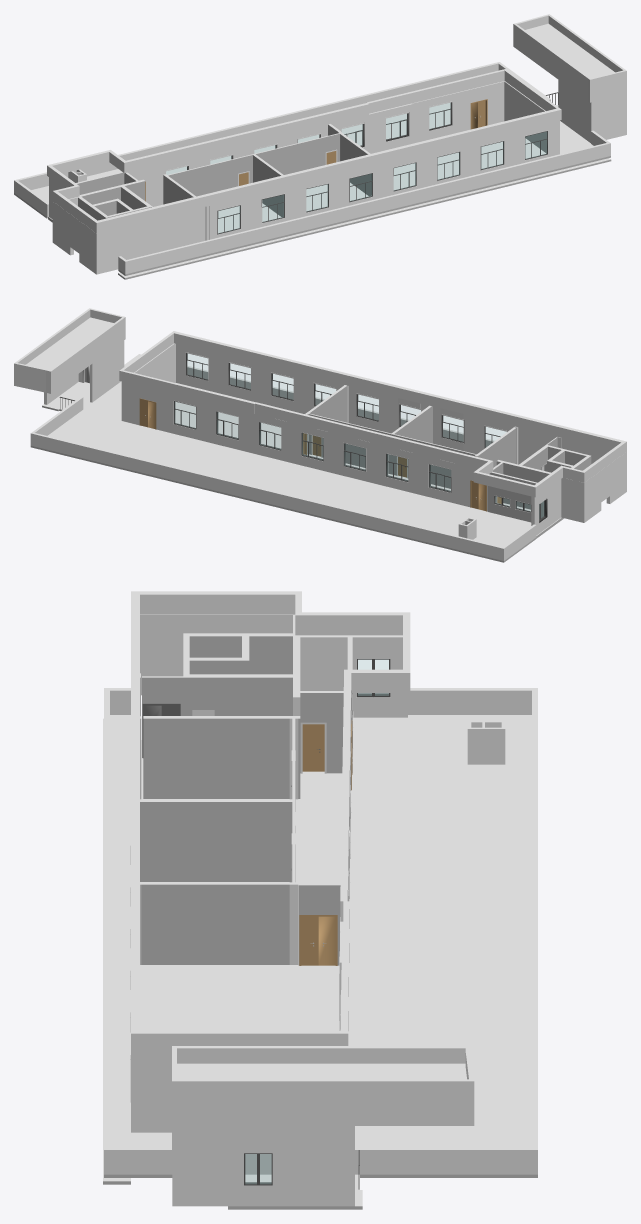
The picture shows the model from 3 angles, top to bottom: view 1: azimuth 30°, elevation 25°; view 2: azimuth 150°, elevation 25°; view 3: azimuth 270°, elevation 25°; orthographic projection. The views are drawn at different scales.
Visible parts, largest first — view 1: 矩形钢管_杆件_30x30x5__2254721__1; view 2: 矩形钢管_杆件_30x30x5__2254721__1; view 3: 矩形钢管_杆件_30x30x5__2254721__1.
Boxes of the visible parts, <box> form: 矩形钢管_杆件_30x30x5__2254721__1: <box>14,14,626,279</box>; 矩形钢管_杆件_30x30x5__2254721__1: <box>14,308,626,562</box>; 矩形钢管_杆件_30x30x5__2254721__1: <box>103,591,537,1209</box>.
Bounding box in the file's own units: 49440 × 6160 × 17660.
